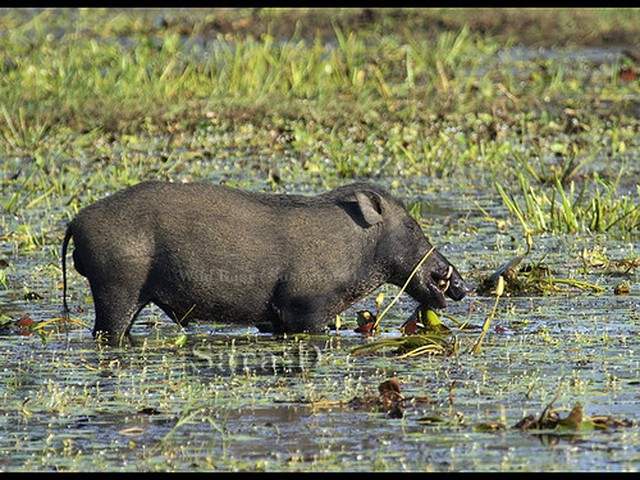Pig: (49, 176, 474, 329)
